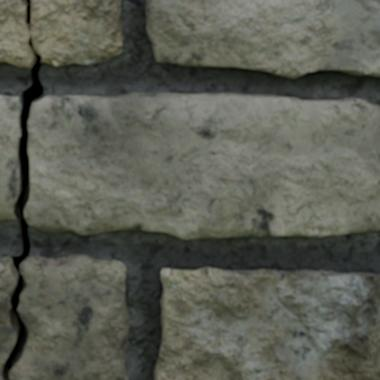brick: (154, 267, 379, 379), (145, 0, 379, 77)
broken_brick: (25, 92, 379, 240), (10, 252, 131, 379), (32, 0, 123, 66), (0, 94, 19, 220), (0, 0, 33, 69), (0, 255, 14, 365)
crack: (0, 0, 44, 379)
